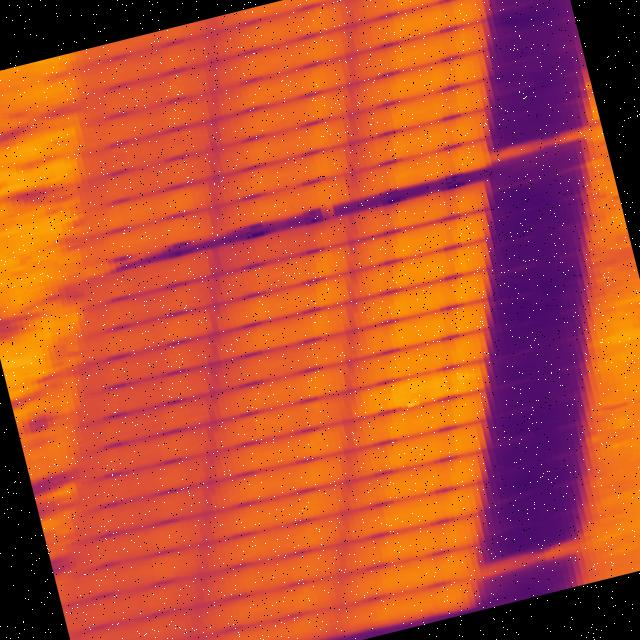Hotspot: (394, 397, 426, 411)
